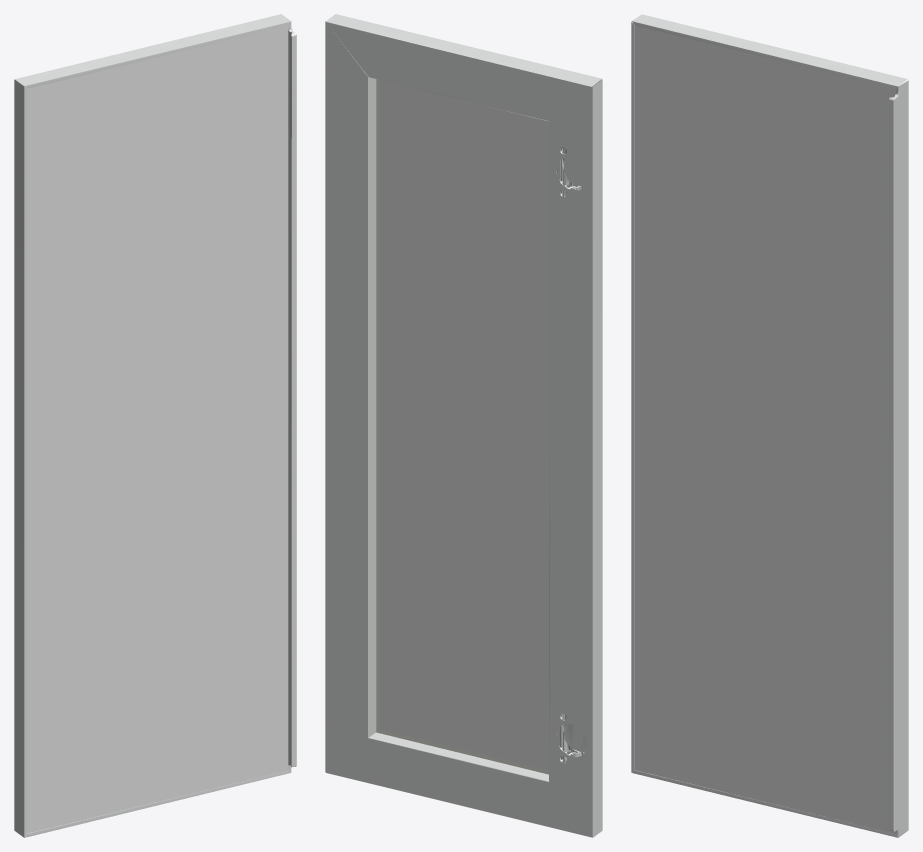
File: ssg8anqszb8x.glb
3 views of the same model, side by side, from view 1: azimuth 30°, elevation 25°; view 2: azimuth 150°, elevation 25°; view 3: azimuth 330°, elevation 25° (orthographic).
Visible parts, largest first — view 1: 30526633-HEJSTA001; view 2: 30526633-HEJSTA001; view 3: 30526633-HEJSTA001.
Part boxes in pixels (x1,y1,x2,y2): 30526633-HEJSTA001: [14, 14, 296, 837]; 30526633-HEJSTA001: [325, 14, 602, 837]; 30526633-HEJSTA001: [631, 14, 908, 837].
Size of the model in its own units: 0.2971 by 0.797 by 0.0292.
Materials: 2 (2 with a texture image).
